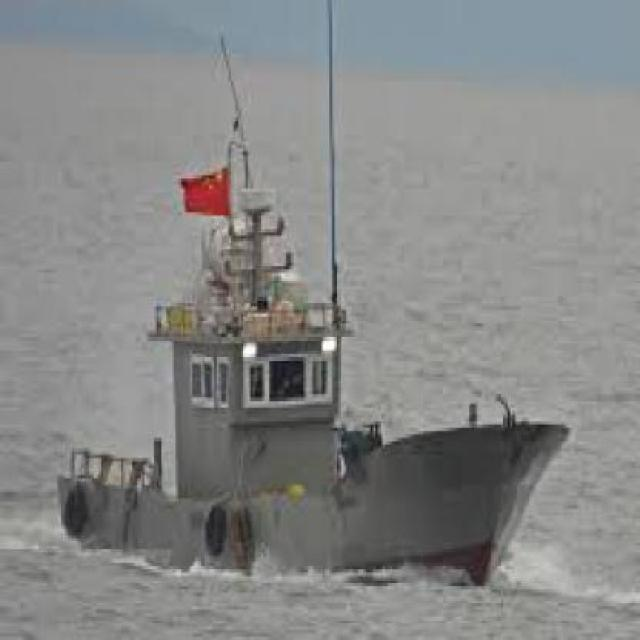fish-b: (33, 24, 579, 607)
